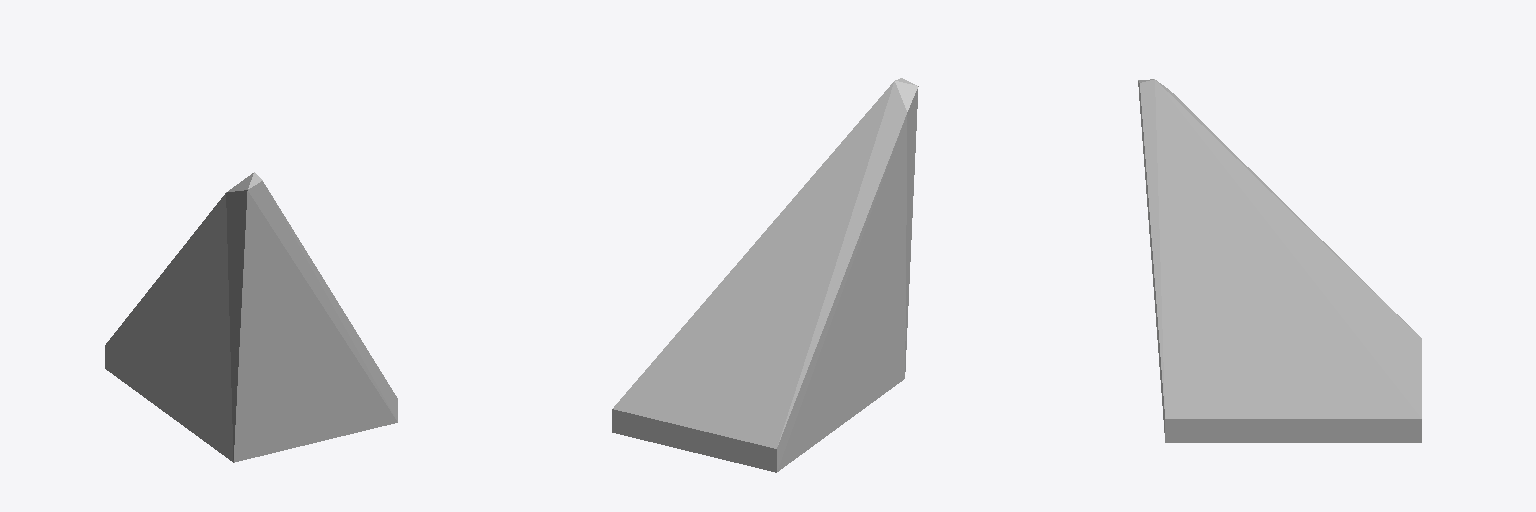
The model's file is raw_model_collision_18.obj.
3 renders of one model, left to right at view 1: azimuth 30°, elevation 25°; view 2: azimuth 150°, elevation 25°; view 3: azimuth 270°, elevation 25°, orthographic.
Bounding box in the file's own units: 0.134 × 0.2197 × 0.1946.